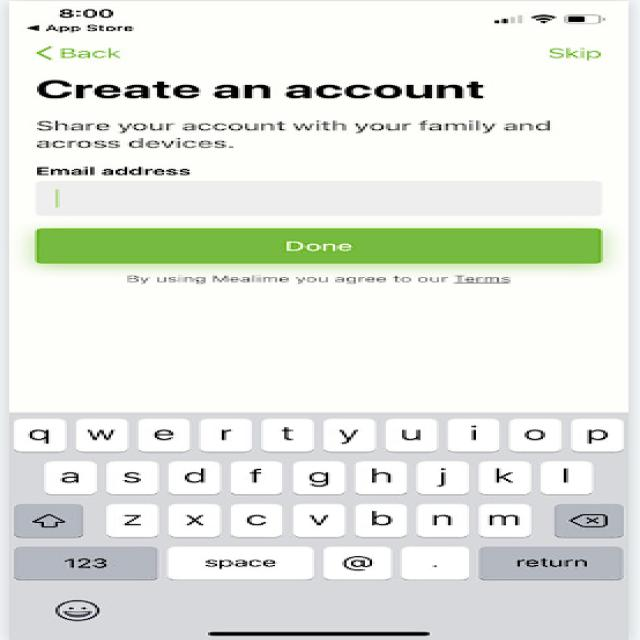button: (12, 225, 620, 270)
input: (18, 160, 620, 222)
text: (15, 73, 620, 153), (535, 39, 620, 64)
